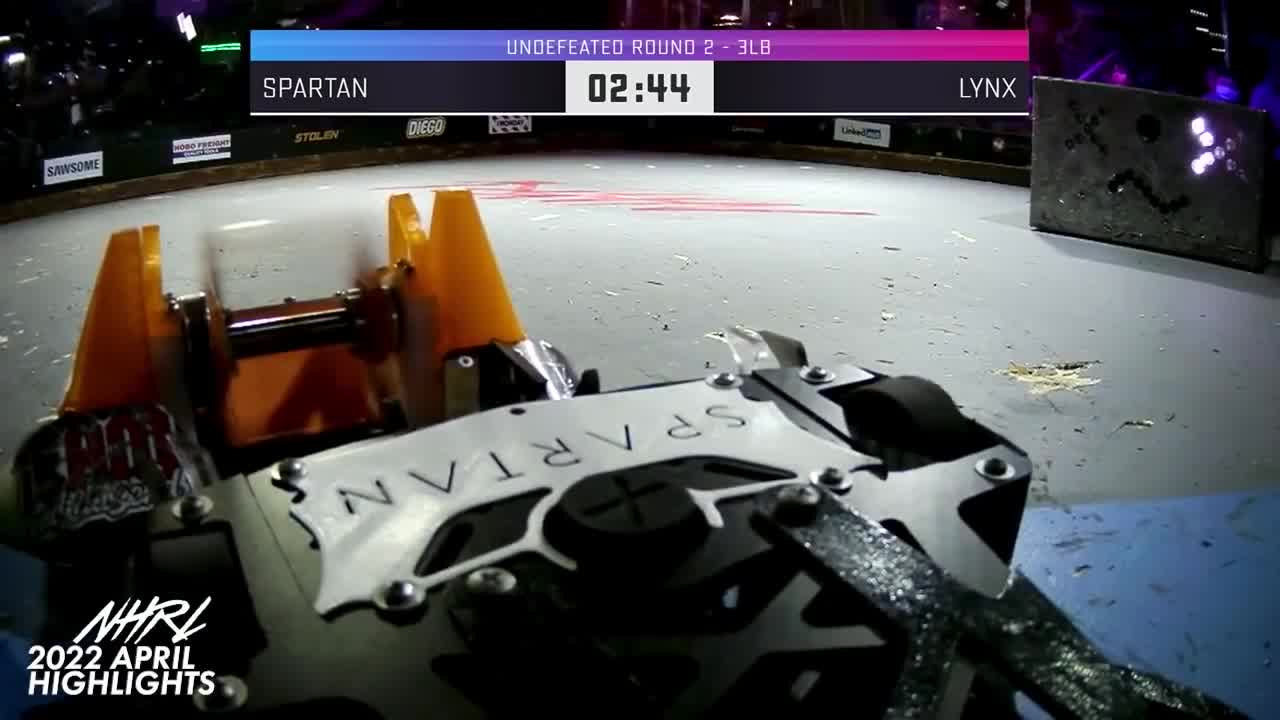combatbot: (151, 366, 1032, 720), (18, 214, 586, 563)
housebot: (1030, 77, 1272, 276)
